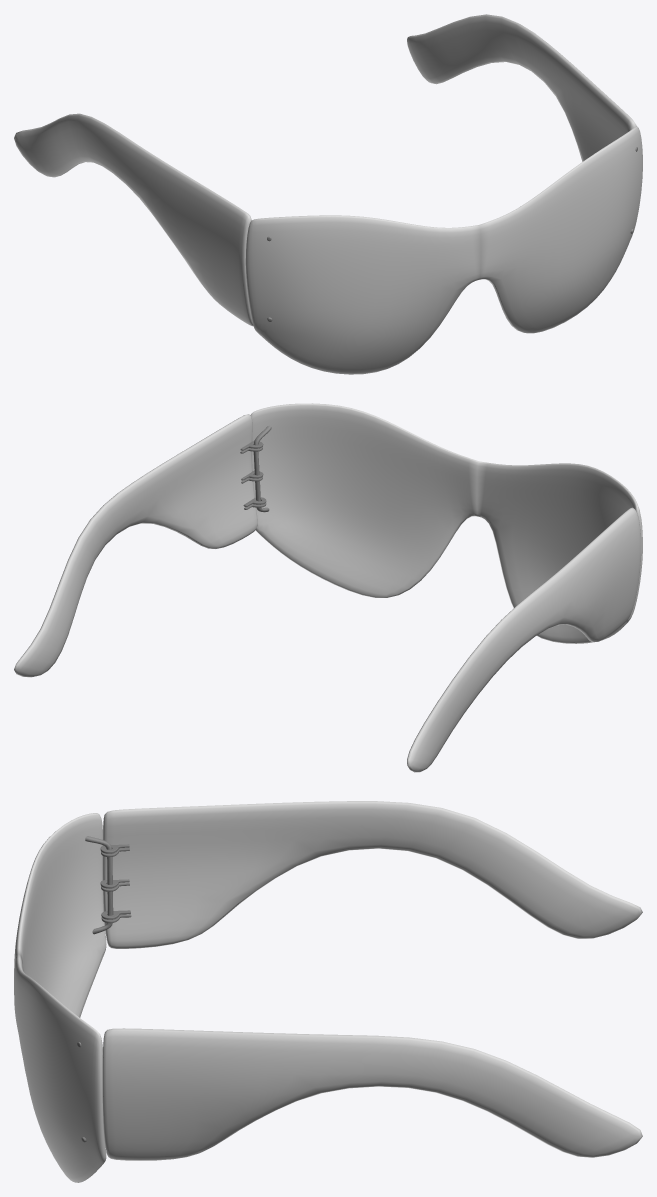
File: Sunglass2.glb
3 views of the same model, one above another, from view 1: azimuth 30°, elevation 25°; view 2: azimuth 150°, elevation 25°; view 3: azimuth 270°, elevation 25° (orthographic). The views are drawn at different scales.
Parts seen in each view (by area): view 1: FlySunglasses; view 2: FlySunglasses; view 3: FlySunglasses.
Part boxes in pixels (bbox=[...]): FlySunglasses: bbox=[14, 14, 642, 374]; FlySunglasses: bbox=[14, 403, 642, 772]; FlySunglasses: bbox=[14, 801, 642, 1182].
Bounding box in the file's own units: 0.1613 × 0.0635 × 0.177.
Materials: 2 (1 with a texture image).
